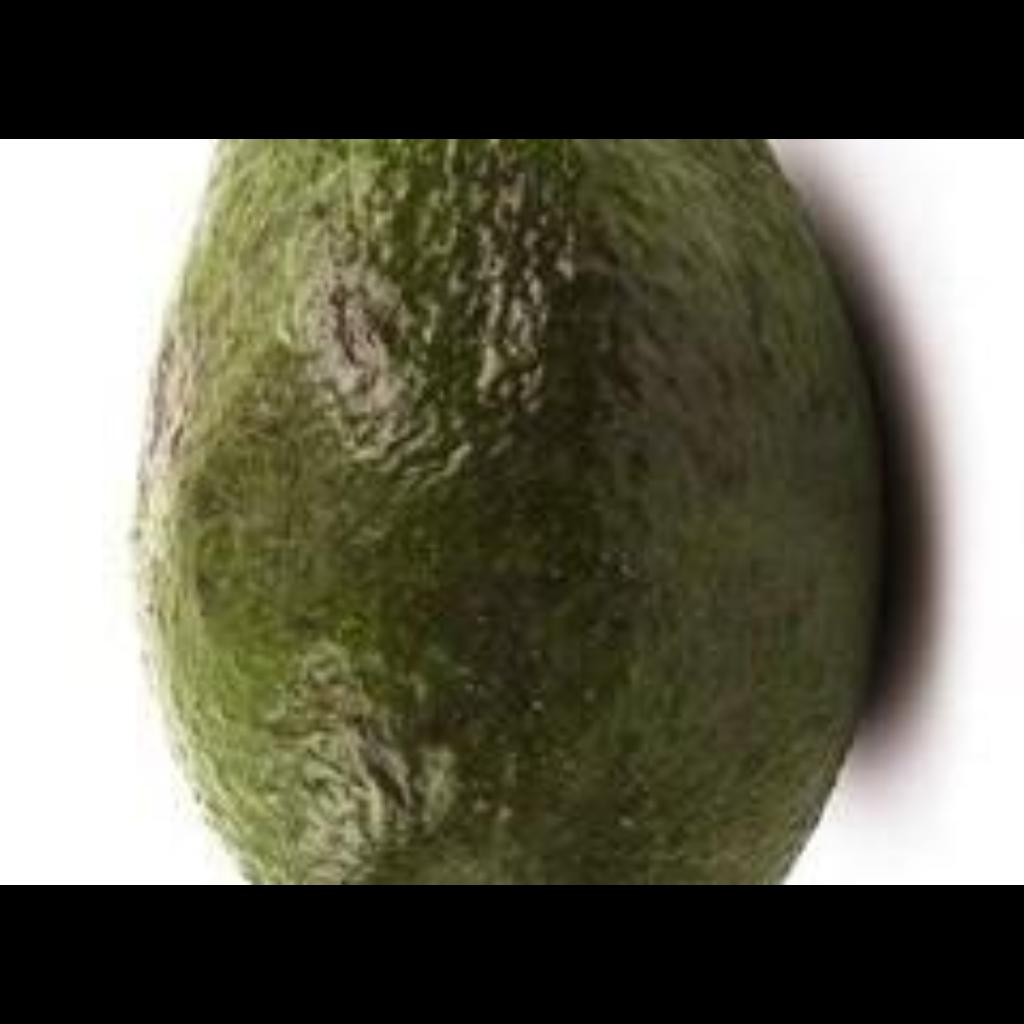Anthracnose: (158, 228, 828, 784)
